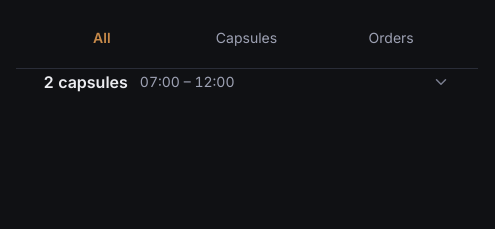
the log names its unit the way the rest of the app does, and binds each day to its date
The width and height of the screenshot is (495, 229).
Expected: the radio button labelled "Capsules" is shown, [176,16,317,60]
Click the button: point(93, 82) [32,60,462,104]
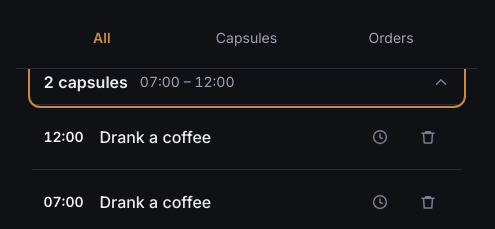
Result: the text "Drank a coffee" is shown 2 times at [100,127,211,147]; [100,192,211,212]
